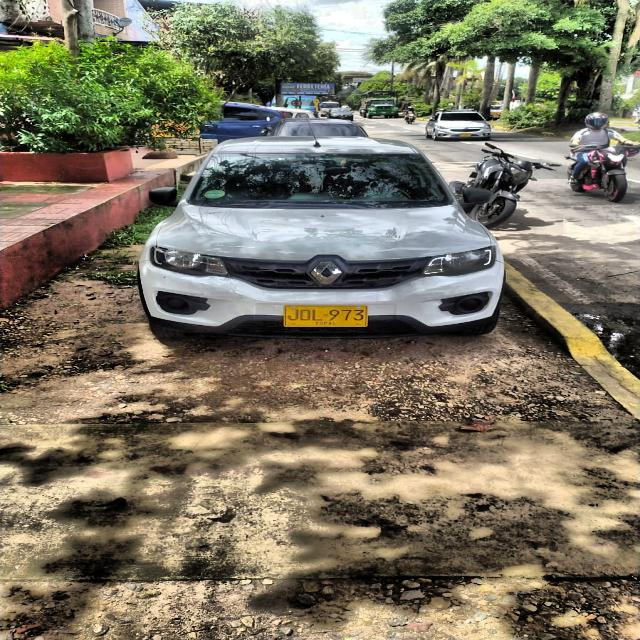plate: (285, 306, 366, 326)
